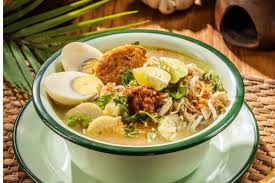Soto: (77, 44, 229, 148)
Telur rebus: (42, 71, 105, 104), (59, 39, 104, 77)
